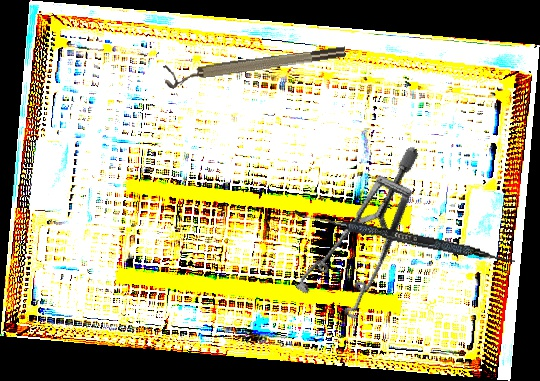Fixation Ring: (162, 43, 348, 90)
Spatula Surgical: (292, 209, 518, 266)
Speculum: (263, 145, 472, 337)
